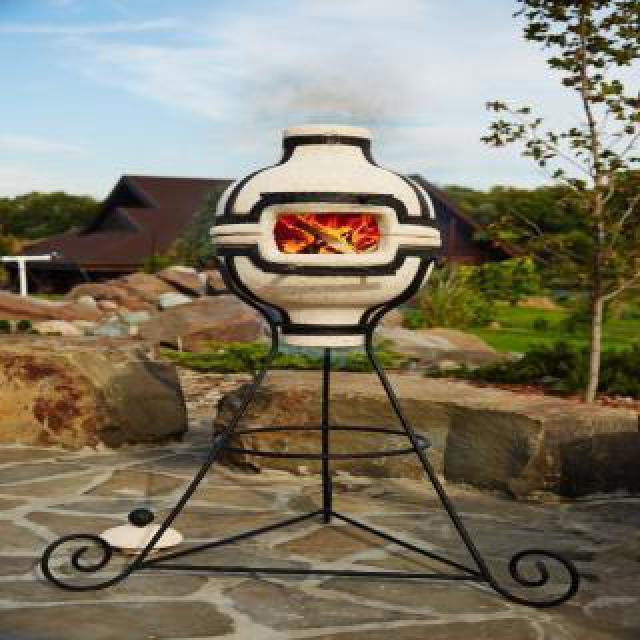Fire: (275, 213, 383, 256)
Smoke: (276, 64, 402, 128)
